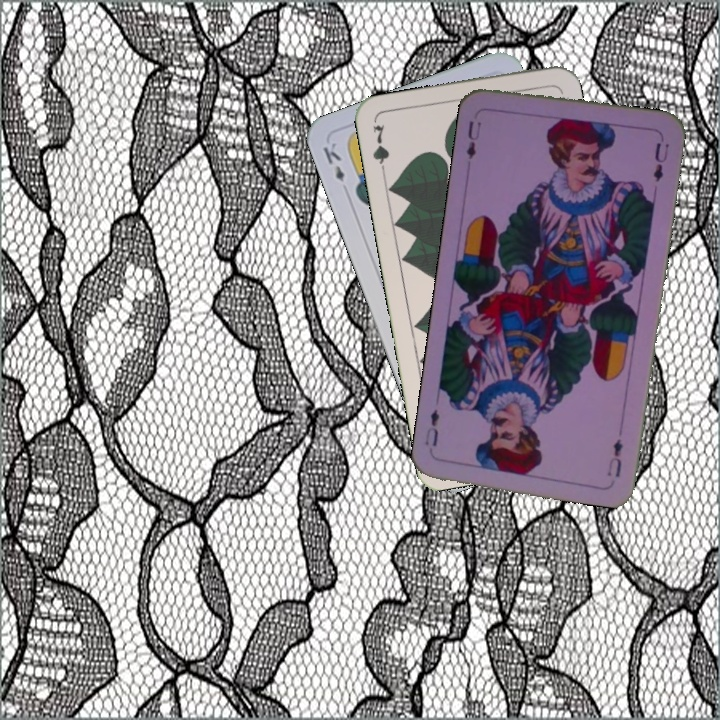EK: (319, 138, 347, 185)
EU: (603, 434, 626, 480), (462, 116, 484, 162)
G7: (368, 120, 392, 179)
